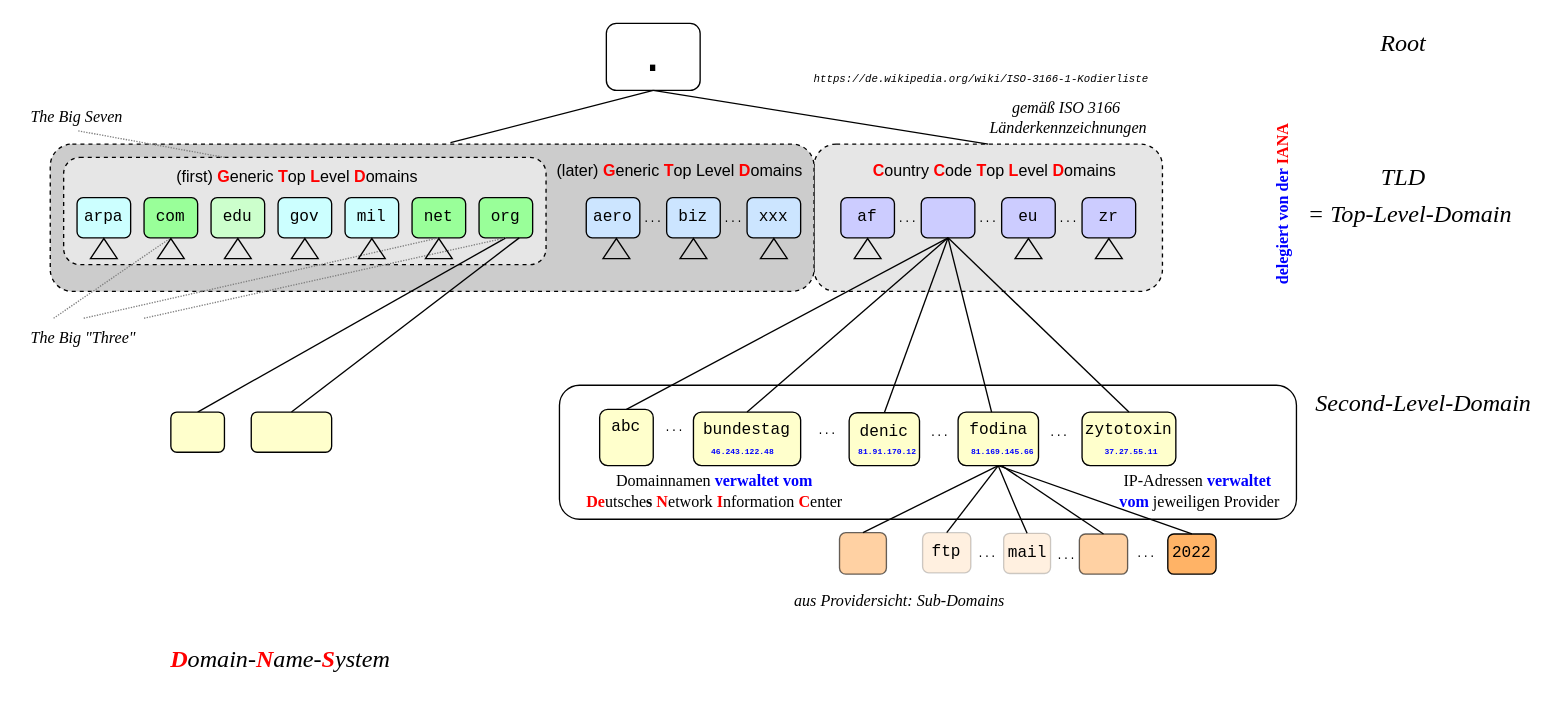
The diagram is 1560 pixels wide and 704 high, and some of its shapes have lost their labels. Here are the shapes that lost their labels. From the top down, the centre of each, then its label:
At (947,217): "de".
At (197,431): "iana".
At (291,431): "example".
At (1103,553): "www".
